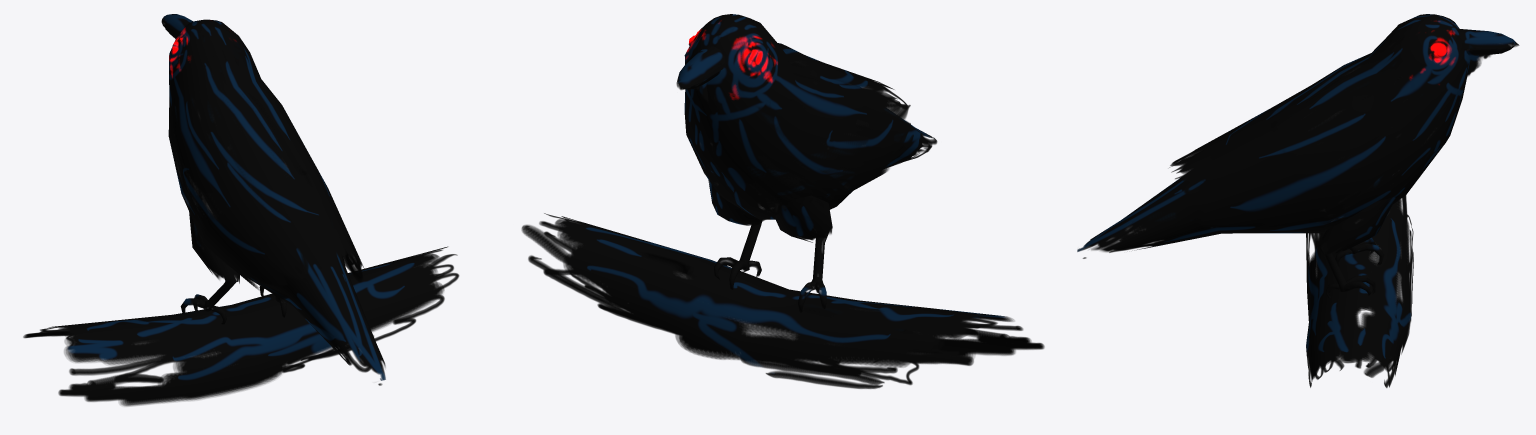
Rendered from ghost_raven.glb.
3 views of the same model, side by side, from view 1: azimuth 30°, elevation 25°; view 2: azimuth 150°, elevation 25°; view 3: azimuth 270°, elevation 25° (orthographic). The views are drawn at different scales.
Parts seen in each view (by area): view 1: Cylinder; view 2: Cylinder; view 3: Cylinder.
Boxes of the visible parts, <box> form: Cylinder: <box>23,14,459,406</box>; Cylinder: <box>521,14,1044,388</box>; Cylinder: <box>1077,14,1519,387</box>.
Bounding box in the file's own units: 13.46 × 9.65 × 11.88.
Materials: 1 (1 with a texture image).
